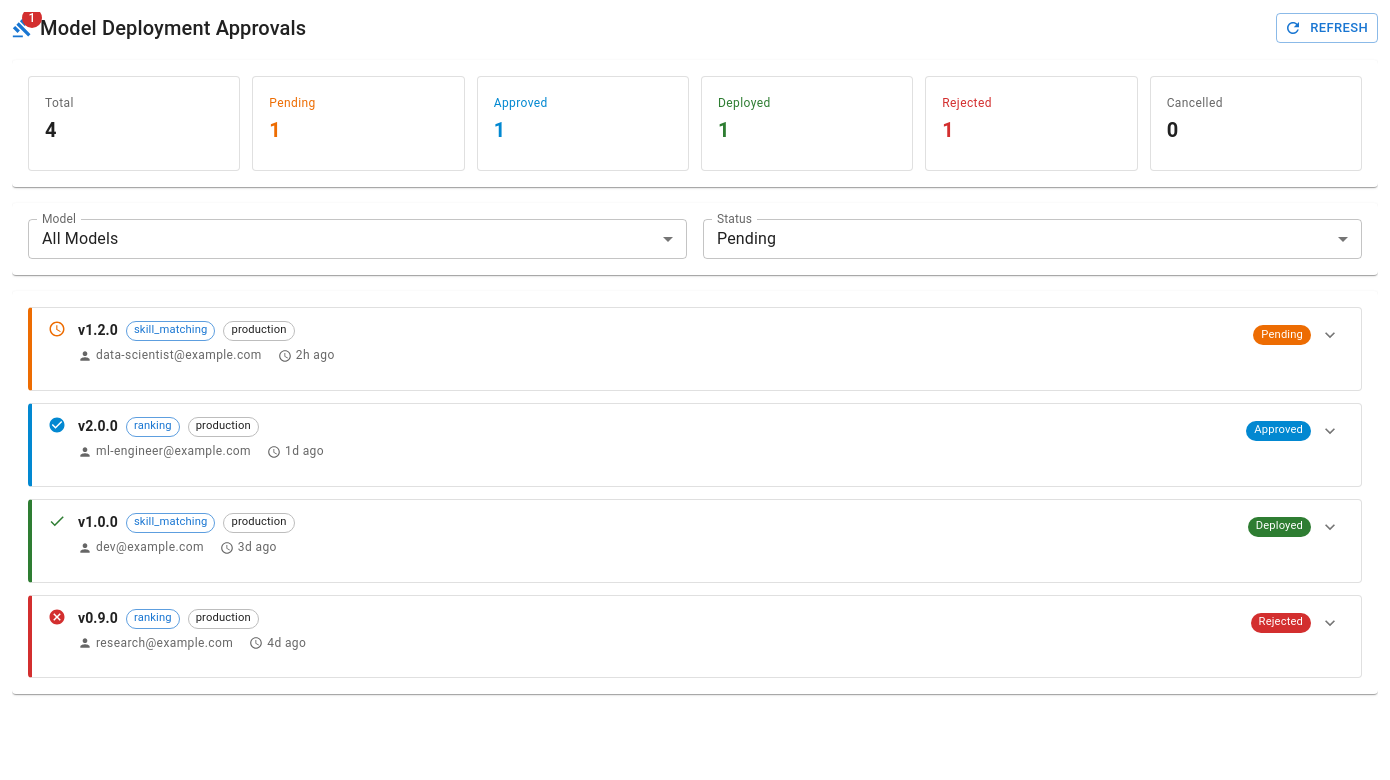
it: ModelApprovalPanel › Card Expansion › shows action buttons for pending approvals when expanded
This screenshot has width=1390, height=780.
Expected: the heading "v1.2.0" is shown, [78, 320, 118, 342]
What coordinates should you click on to do the following:
click the button without text in the row of "2h ago"
I would click on:
 (1330, 335)
Its box is [1315, 320, 1345, 350].
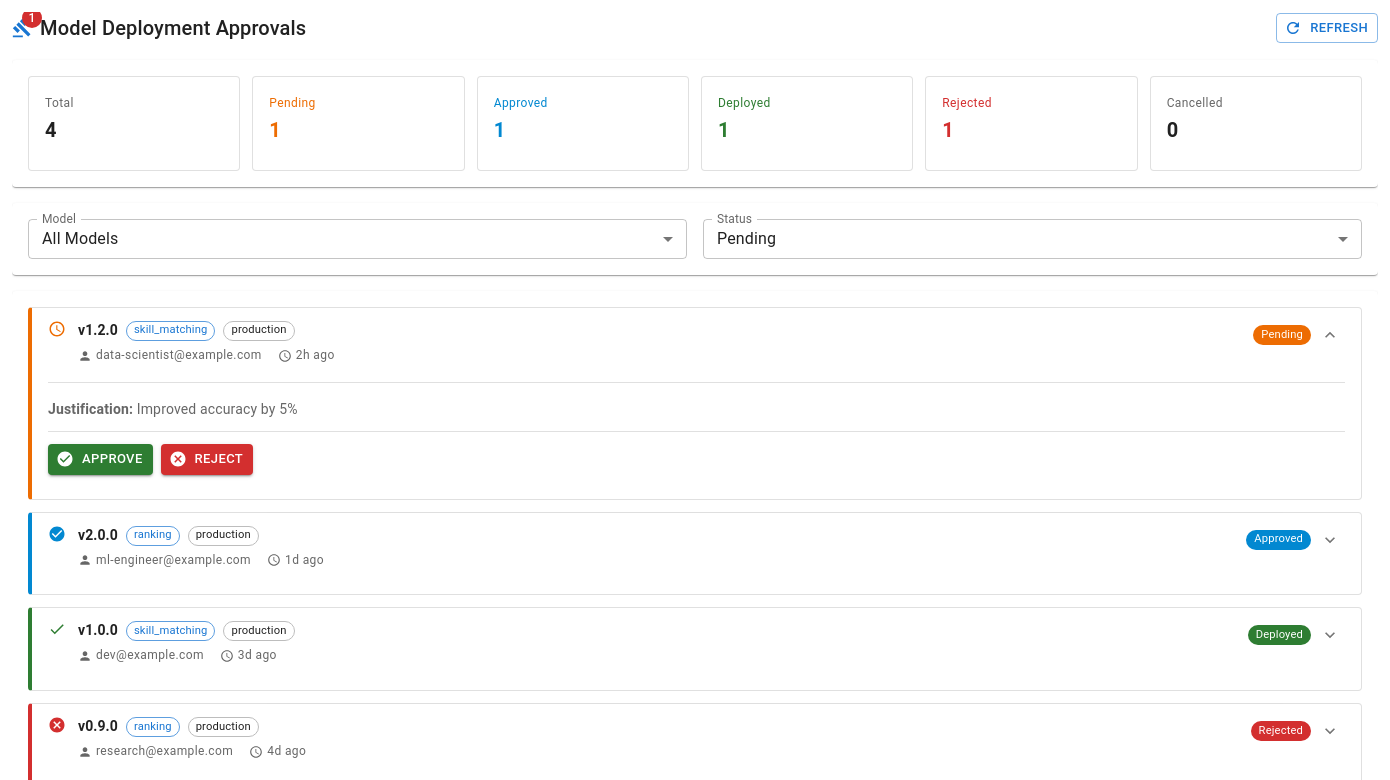
Expected: the button "Approve" is shown, [48, 444, 153, 475]
Expected: the button "Reject" is shown, [161, 444, 253, 475]
